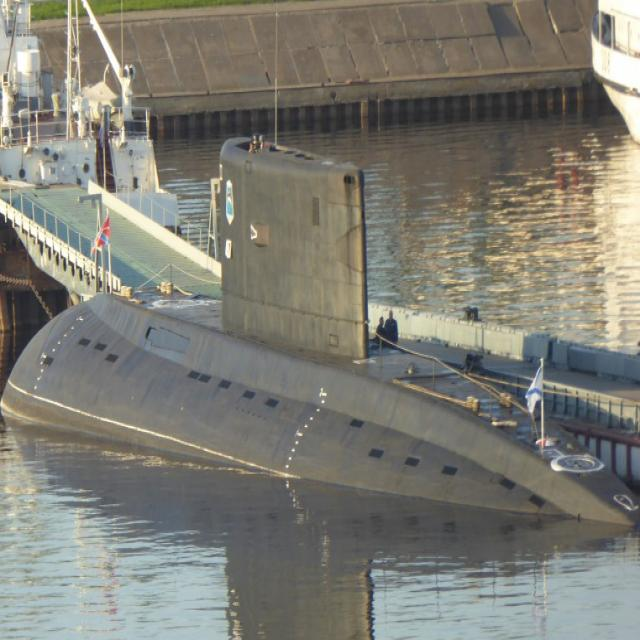submarine: (1, 132, 640, 530)
